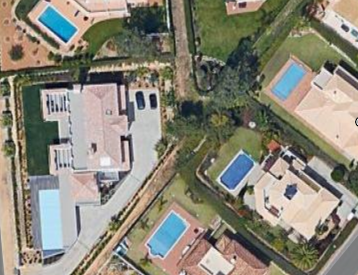pool: (35, 192, 65, 254), (146, 219, 189, 259), (39, 6, 75, 44), (281, 65, 310, 101), (224, 156, 248, 187)
